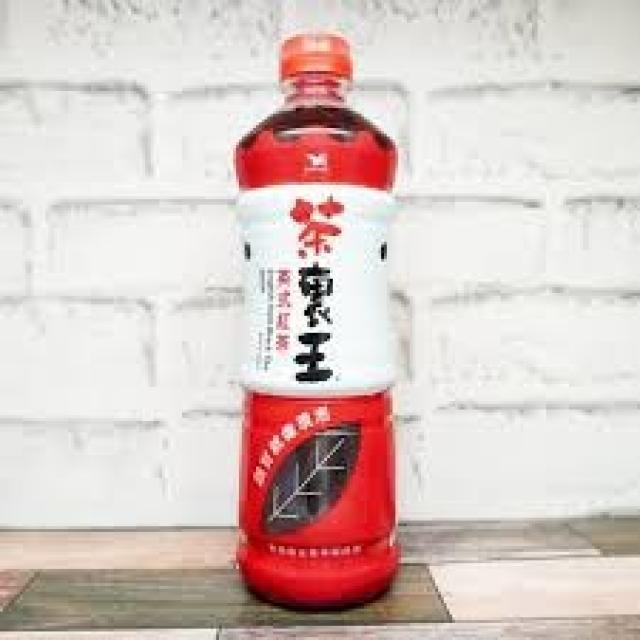ChaLiWong_BlackTea: (228, 32, 401, 598)
